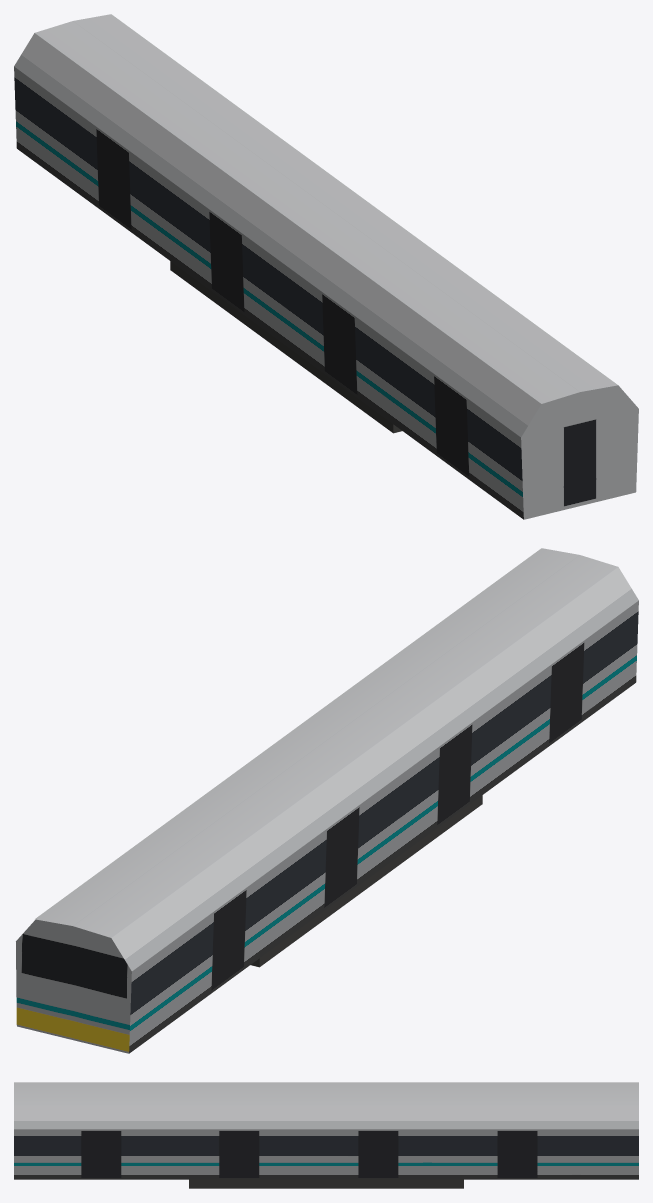
The model's file is metro_cab_lod2.glb.
3 renders of one model, top to bottom at view 1: azimuth 30°, elevation 25°; view 2: azimuth 150°, elevation 25°; view 3: azimuth 270°, elevation 25°, orthographic. The views are drawn at different scales.
Parts seen in each view (by area): view 1: body; view 2: body; view 3: body.
Part boxes in pixels (left/top/right/bottom): body: left=14, top=14, right=638, bottom=519; body: left=16, top=548, right=638, bottom=1053; body: left=14, top=1082, right=638, bottom=1188.
Size of the model in its own units: 2.9 by 3.16 by 21.6.
Materials: 2 (2 with a texture image).
